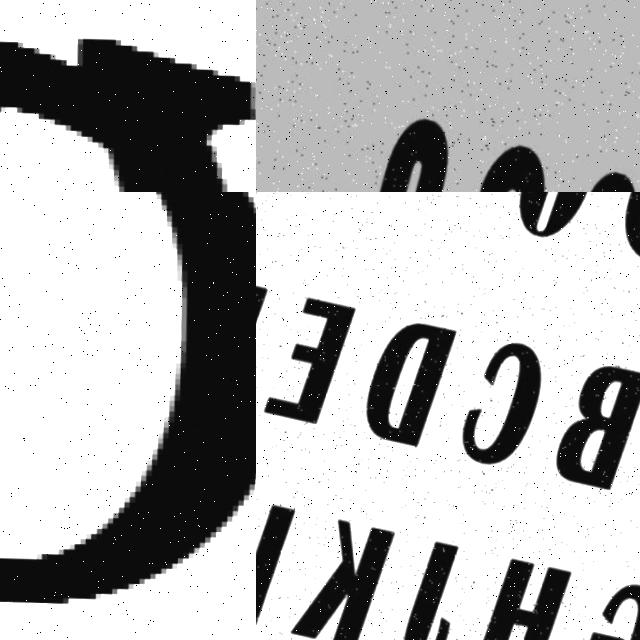0: (337, 65, 479, 192), (482, 192, 622, 261)
8: (525, 121, 640, 192)
9: (432, 102, 571, 192), (592, 192, 640, 287)
N: (0, 5, 256, 192)
